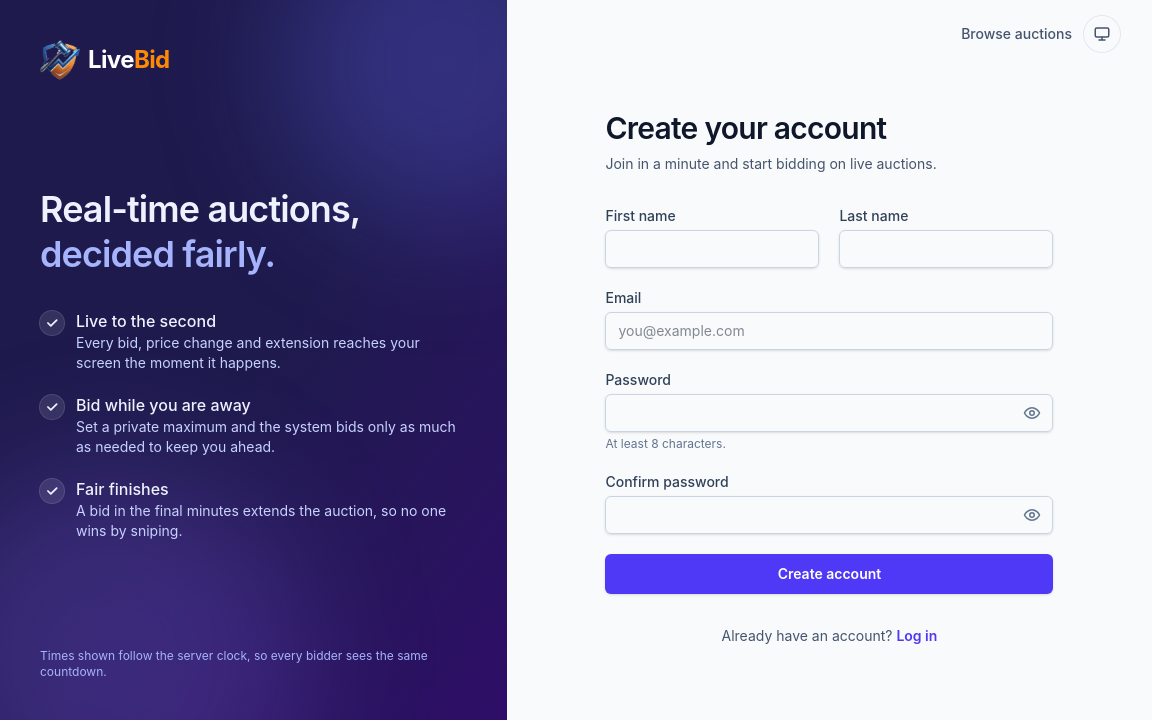
Scenario: <RegisterPage> › requires both names before sending anything
The width and height of the screenshot is (1152, 720).
Click the button "Create account": (829, 574) [605,554,1053,594]
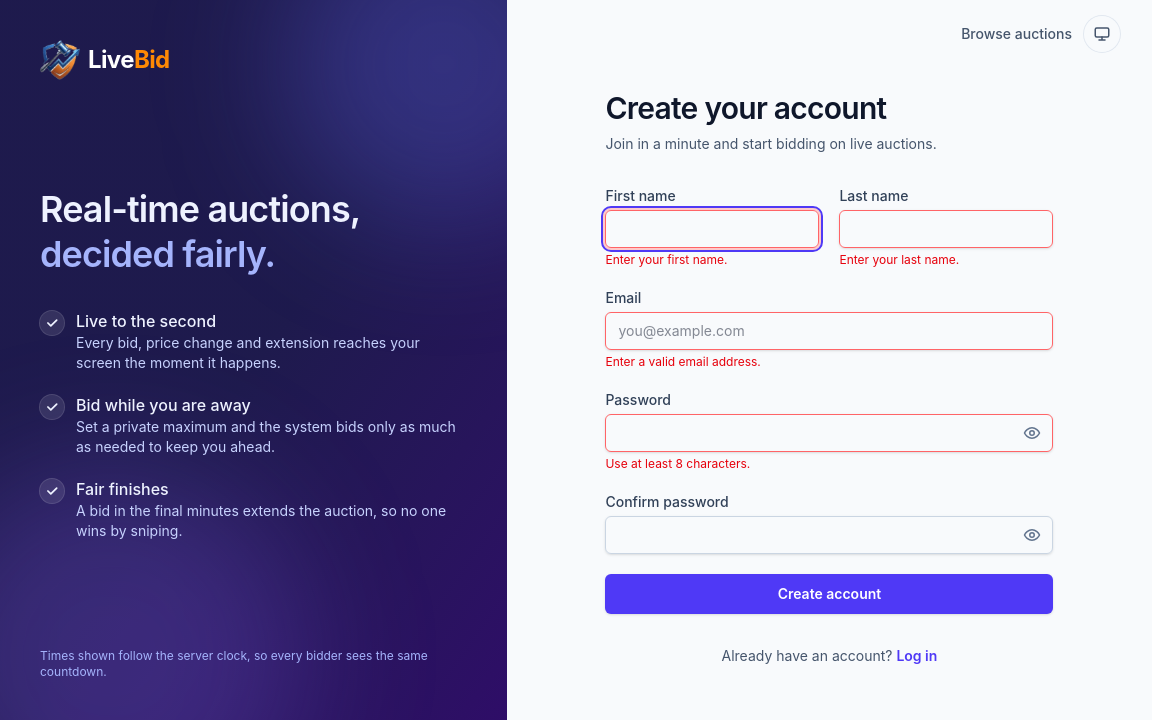
Check: the text "Enter your first name." is shown, box [605,252,727,267]
Check: the text "Enter your last name." is shown, box [839,252,959,267]
